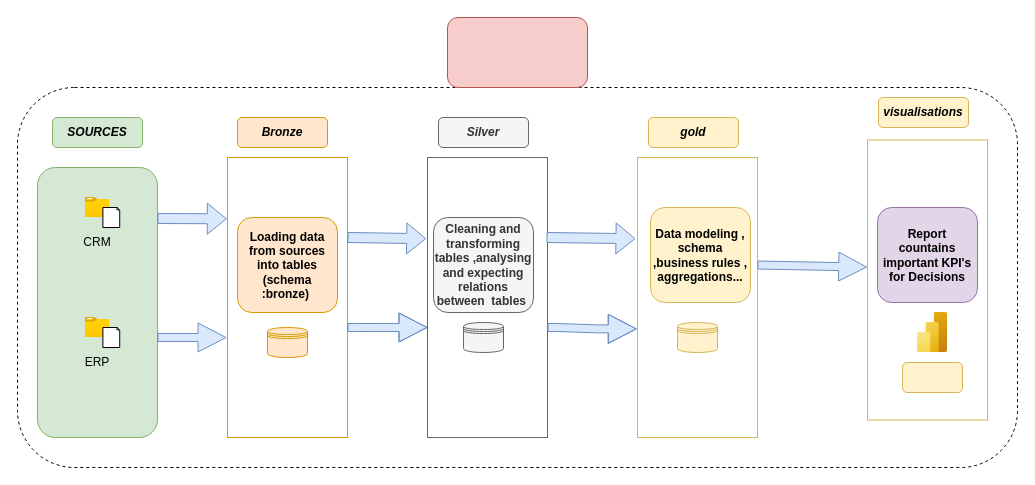
Image size: 1035x485. Some labels were removed from this diagram. Each missing label, with the centre of its shape:
"Data Architecture" belongs at pixel 517 52.
"Power bi" belongs at pixel 932 377.
